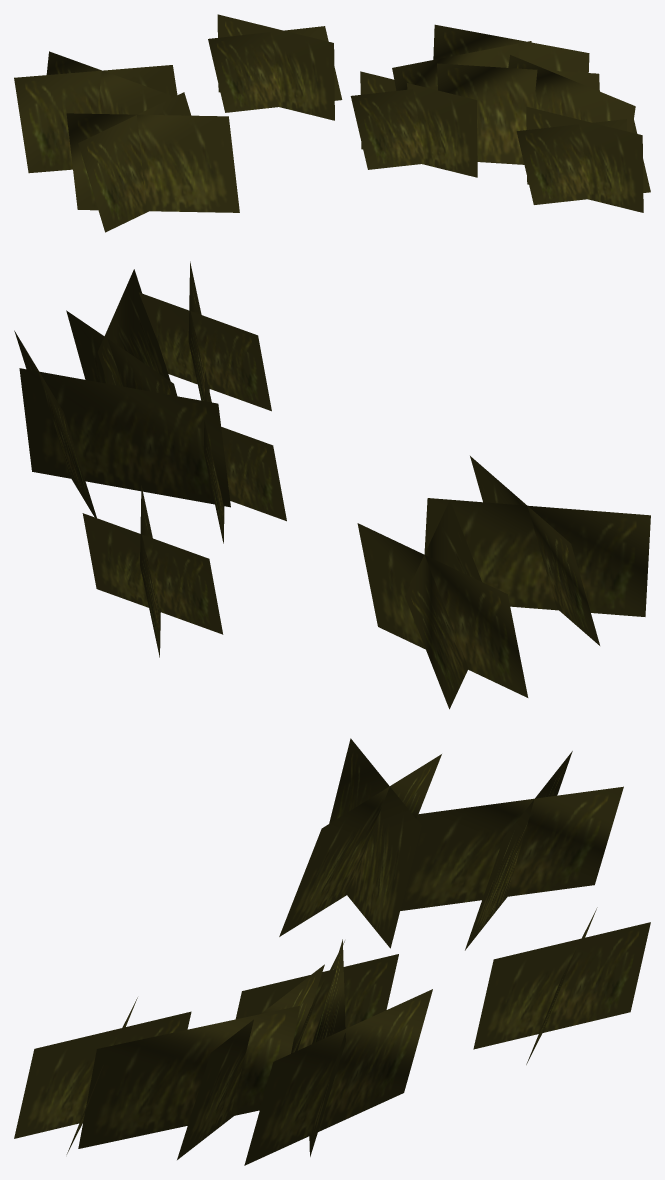
File: yz_cao2.fbx
3 views of the same model, one above another, from view 1: azimuth 30°, elevation 25°; view 2: azimuth 150°, elevation 25°; view 3: azimuth 270°, elevation 25° (orthographic). The views are drawn at different scales.
Visible parts, largest first — view 1: yz_cao2; view 2: yz_cao2; view 3: yz_cao2.
Boxes of the visible parts, x1,y1,x2,y2 form: yz_cao2: (14, 14, 650, 232); yz_cao2: (14, 261, 650, 709); yz_cao2: (14, 738, 650, 1165).
Size of the model in its own units: 1294 by 238 by 1105.
